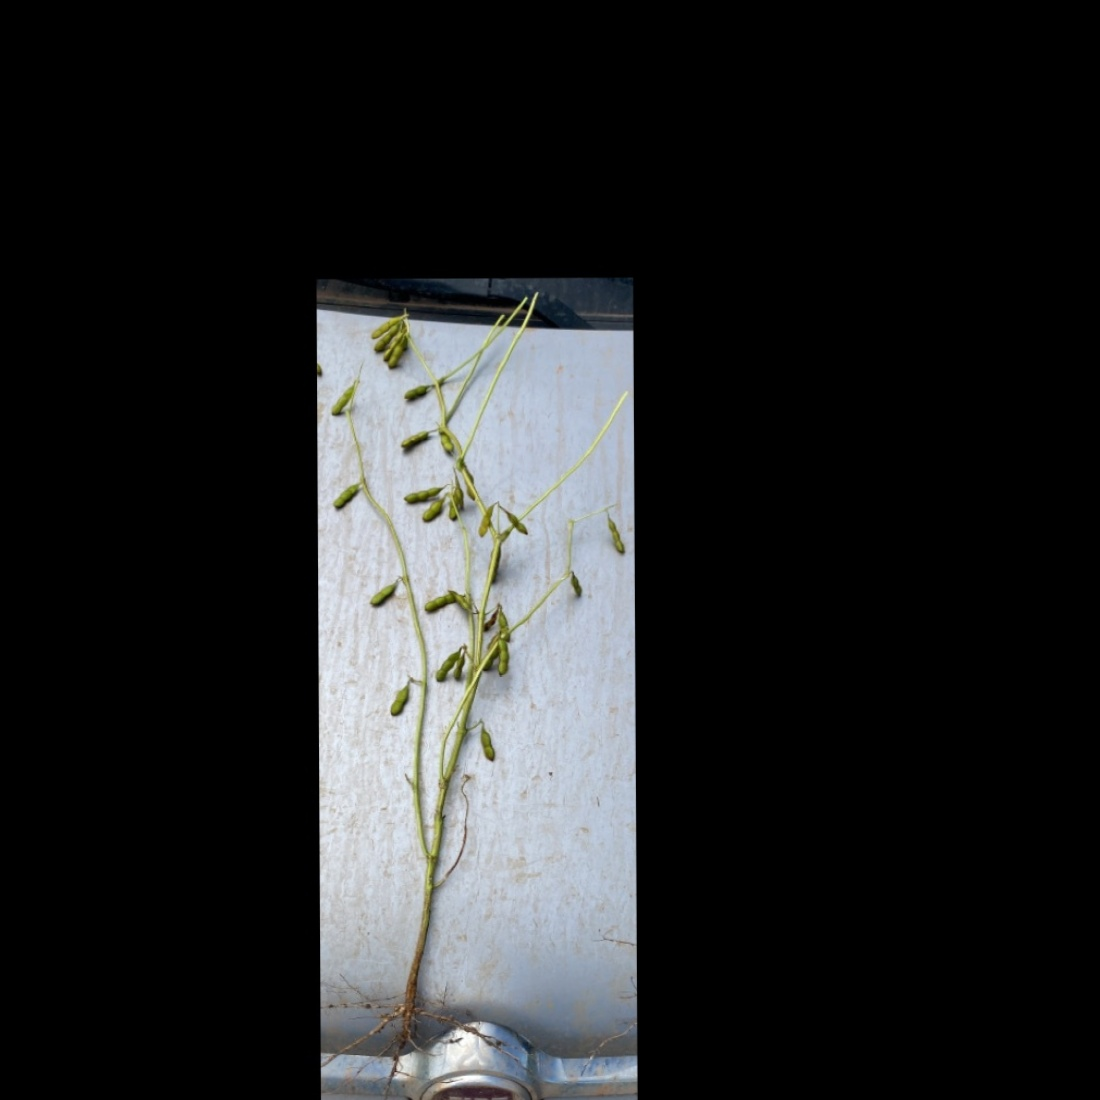pod: (387, 674, 417, 718), (476, 717, 501, 765), (500, 503, 532, 535), (395, 483, 444, 503), (432, 649, 460, 684), (603, 514, 627, 556), (420, 589, 459, 613), (447, 586, 476, 617), (476, 502, 500, 540), (330, 482, 361, 511), (367, 581, 399, 607), (329, 383, 352, 416), (496, 633, 510, 684), (398, 428, 433, 448), (397, 383, 431, 402), (418, 499, 443, 524), (435, 431, 457, 454), (452, 653, 468, 684), (569, 570, 586, 599)
soy: (322, 291, 632, 1068)
